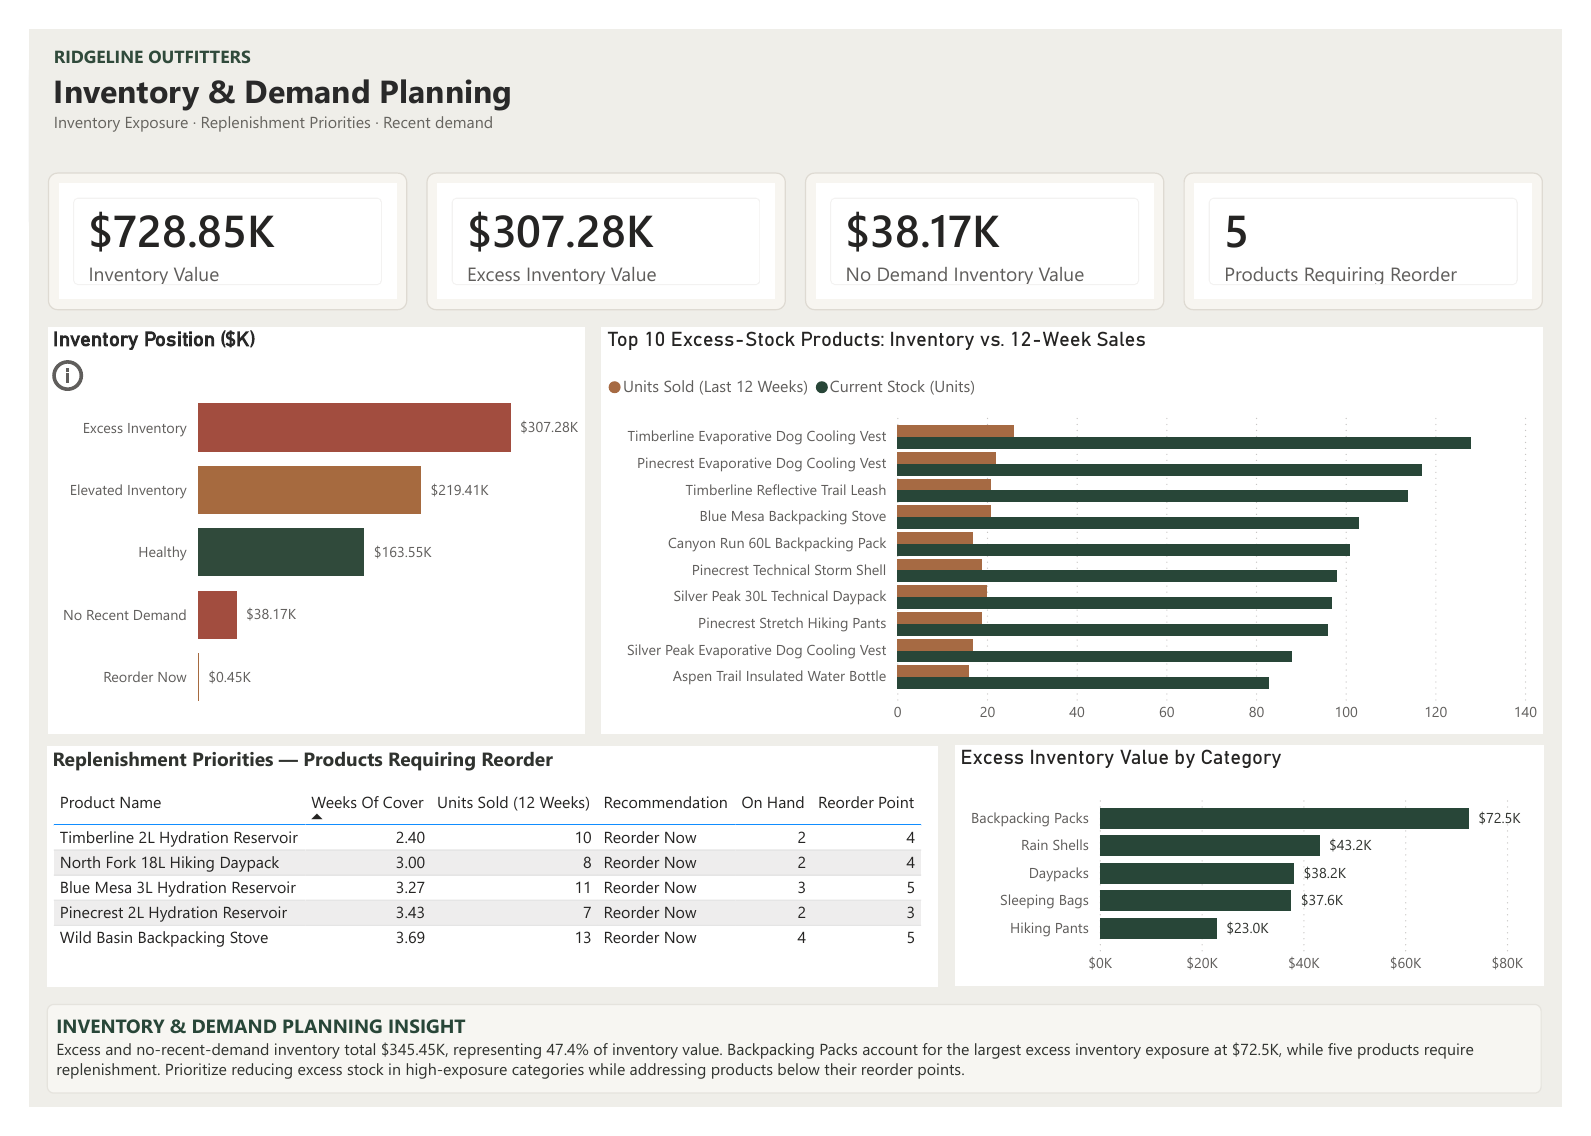

The dashboard page shown, as its layout file describes it:
{"tool":"powerbi","page":{"name":"Inventory & Demand Planning","canvas":[1280,900],"ordinal":2},"visuals":[{"type":"cardVisual","fields":{"Data":["_Measures.Inventory Value"]},"box":[16,120,300,115],"z":0},{"type":"textbox","box":[16,8,599,130],"z":1000},{"type":"cardVisual","fields":{"Data":["_Measures.Excess Inventory Value"]},"box":[332,120,300,115],"z":2000},{"type":"cardVisual","fields":{"Data":["_Measures.No Demand Inventory Value"]},"box":[648,120,300,115],"z":3000},{"type":"cardVisual","fields":{"Data":["_Measures.Products Requiring Reorder"]},"box":[964,120,300,115],"z":4000},{"type":"clusteredBarChart","title":"Inventory Position ($K)","fields":{"Category":["gold_inventory_demand_planning.ReplenishmentRecommendation"],"Y":["_Measures.Inventory Value"]},"box":[16,249,448,340],"z":5000},{"type":"actionButton","box":[15.2,271.8,67.2,35.3],"z":6000},{"type":"clusteredBarChart","title":"Top 10 Excess-Stock Products: Inventory vs. 12-Week Sales","fields":{"Category":["gold_inventory_demand_planning.ProductName"],"Y":["Sum(gold_inventory_demand_planning.UnitsSoldLast12Weeks)","Sum(gold_inventory_demand_planning.TotalQuantityOnHand)"]},"box":[478,249,786,340],"z":7000},{"type":"tableEx","title":"Replenishment Priorities — Products Requiring Reorder","fields":{"Values":["gold_inventory_demand_planning.ProductName","gold_inventory_demand_planning.WeeksOfCover","gold_inventory_demand_planning.UnitsSoldLast12Weeks","gold_inventory_demand_planning.ReplenishmentRecommendation","gold_inventory_demand_planning.TotalQuantityOnHand","gold_inventory_demand_planning.TotalReorderPoint"]},"box":[15.2,598.8,743.3,201.5],"z":8000},{"type":"clusteredBarChart","fields":{"Category":["gold_inventory_demand_planning.Category"],"Y":["_Measures.Excess Inventory Value"]},"box":[773,598,492,201],"z":9000},{"type":"textbox","box":[15,814,1248,75],"z":10000}]}

Visuals, with their boxes in screenshot pixels (x1, y1, x2, y2), scaled from the page's 1280x900 canvas onto the 1591x1136 screenshot:
cardVisual - _Measures.Inventory Value: (left=20, top=151, right=393, bottom=297)
textbox: (left=20, top=10, right=764, bottom=174)
cardVisual - _Measures.Excess Inventory Value: (left=413, top=151, right=786, bottom=297)
cardVisual - _Measures.No Demand Inventory Value: (left=805, top=151, right=1178, bottom=297)
cardVisual - _Measures.Products Requiring Reorder: (left=1198, top=151, right=1571, bottom=297)
"Inventory Position ($K)" clusteredBarChart: (left=20, top=314, right=577, bottom=743)
actionButton: (left=19, top=343, right=102, bottom=388)
"Top 10 Excess-Stock Products: Inventory vs. 12-Week Sales" clusteredBarChart: (left=594, top=314, right=1571, bottom=743)
"Replenishment Priorities — Products Requiring Reorder" tableEx: (left=19, top=756, right=943, bottom=1010)
clusteredBarChart - gold_inventory_demand_planning.Category x _Measures.Excess Inventory Value: (left=961, top=755, right=1572, bottom=1009)
textbox: (left=19, top=1027, right=1570, bottom=1122)
